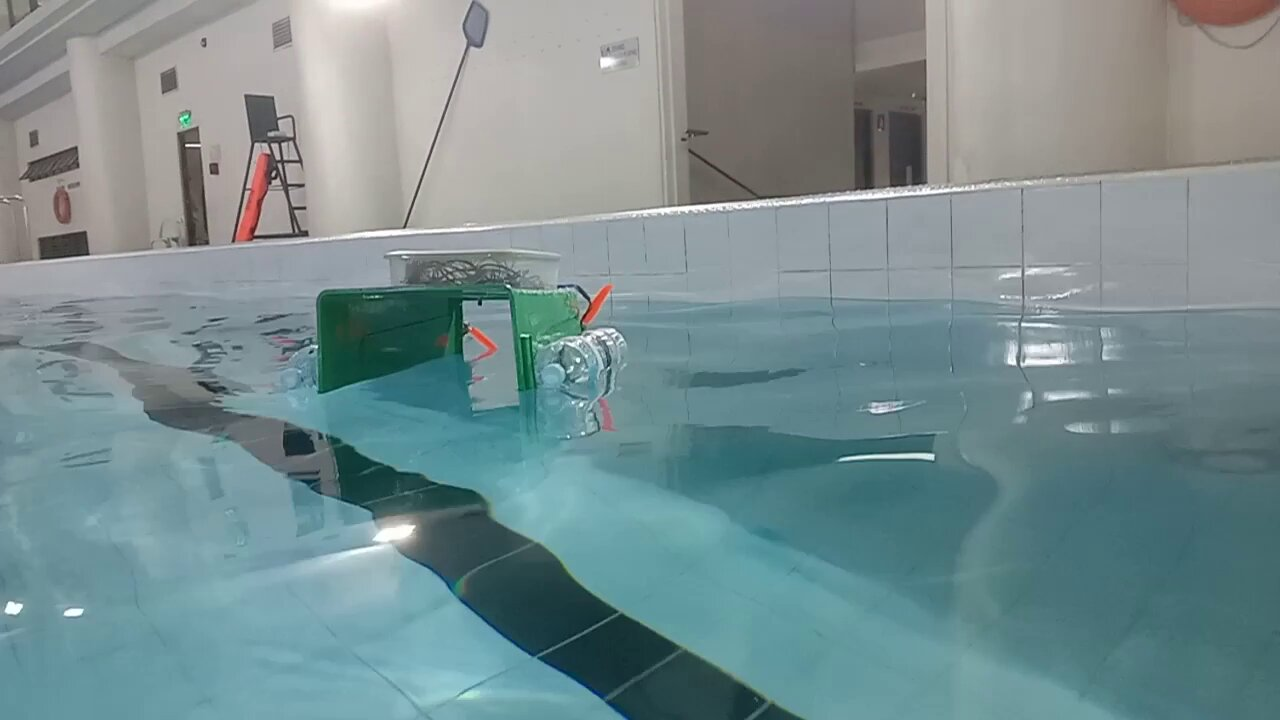drone: (278, 246, 632, 396)
